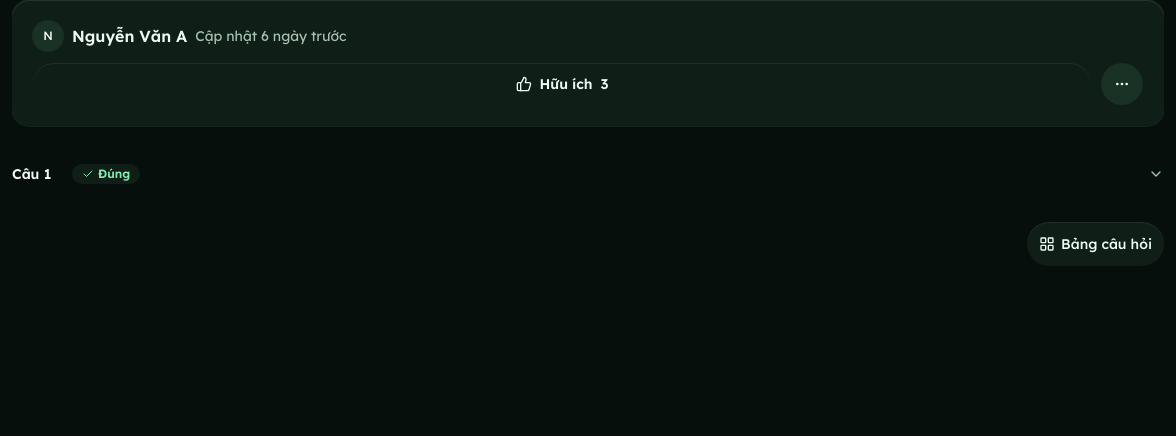
SolutionViewScreen — comment affordance ở cấp màn (AC-048, Reference Contract #20) › note có mặt, commentCount VẮNG MẶT ⇒ hiện ghi chú, KHÔNG nút bình luận, không chữ 'm bình luận'
The image size is (1176, 436).
Click the button "Câu 1 Đúng" at {"x": 32, "y": 174}, box x1=12 y1=146 x2=1164 y2=202
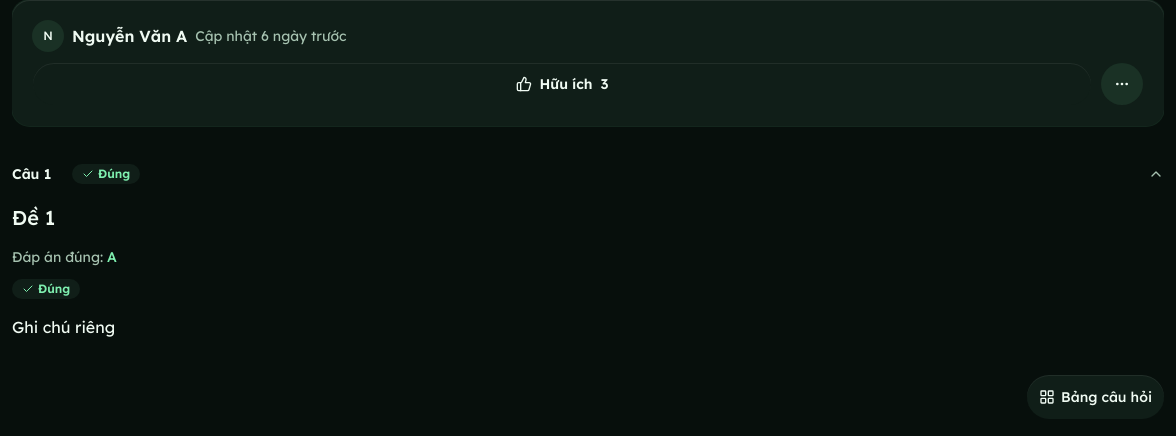
Expected: the text "Ghi chú riêng" is shown, x1=12 y1=316 x2=115 y2=336
